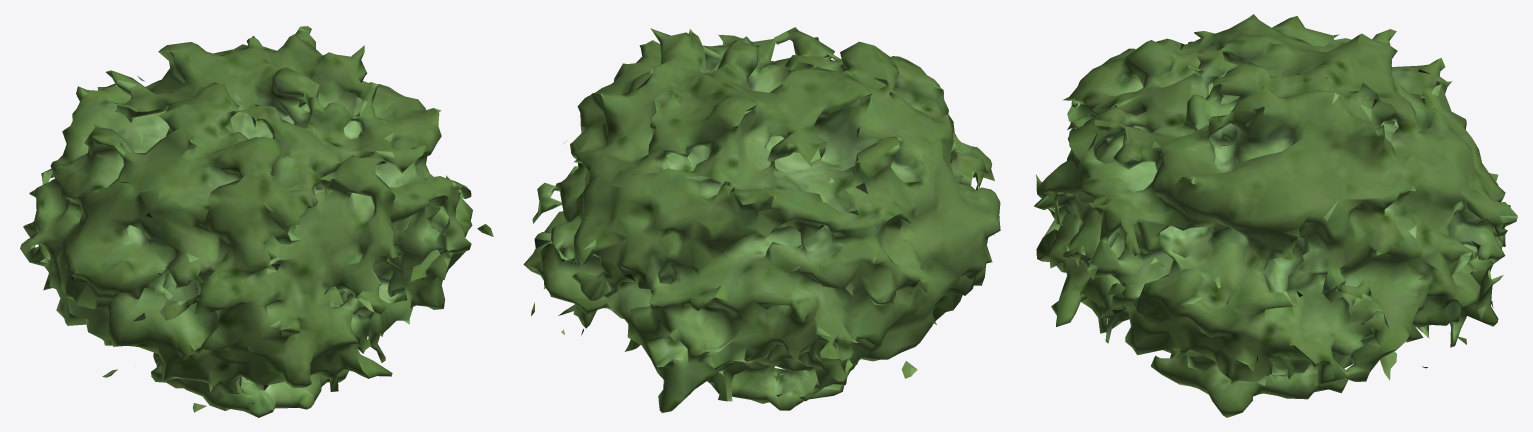
File: ShrubLow.glb
The picture shows the model from 3 angles, left to right: view 1: azimuth 30°, elevation 25°; view 2: azimuth 150°, elevation 25°; view 3: azimuth 270°, elevation 25°; orthographic projection. The views are drawn at different scales.
Parts seen in each view (by area): view 1: ShrubLow; view 2: ShrubLow; view 3: ShrubLow.
Part boxes in pixels (<box>): ShrubLow: <box>20,26,493,417</box>; ShrubLow: <box>523,27,1000,412</box>; ShrubLow: <box>1034,14,1517,417</box>.
Bounding box in the file's own units: 0.8698 × 0.6922 × 0.8722.
1 material, 1 textured.
